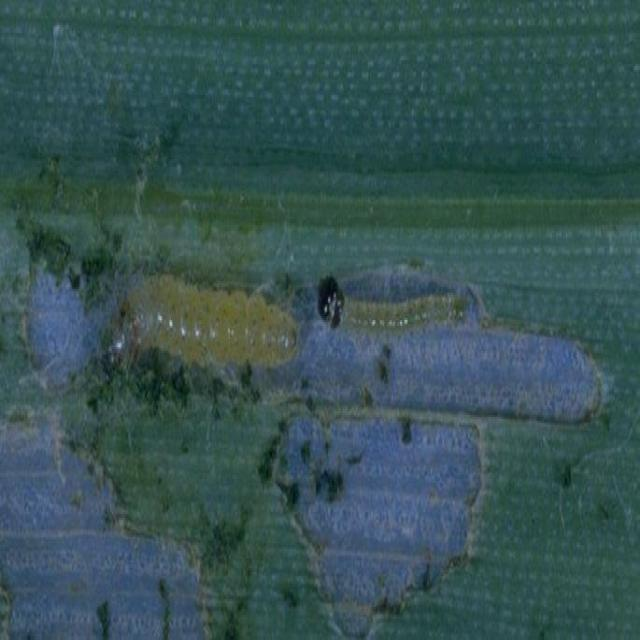cornborer-Larva-: (122, 246, 310, 389), (313, 259, 485, 366)
